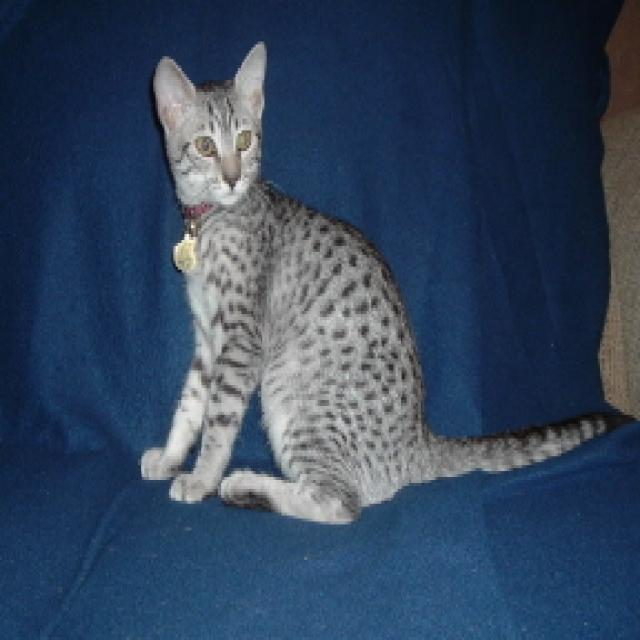Egyptian Mau: (135, 38, 640, 530)
